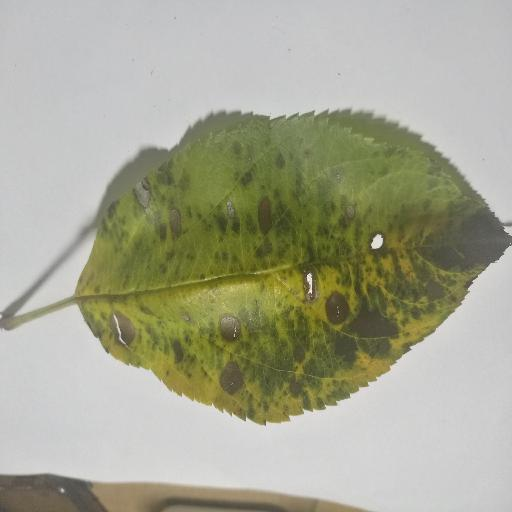Brown_Spot: (222, 358, 253, 401), (214, 310, 250, 347), (100, 314, 141, 346), (354, 310, 389, 341), (295, 264, 322, 303), (165, 206, 188, 239), (262, 201, 283, 237), (327, 295, 351, 322), (359, 228, 383, 253)
